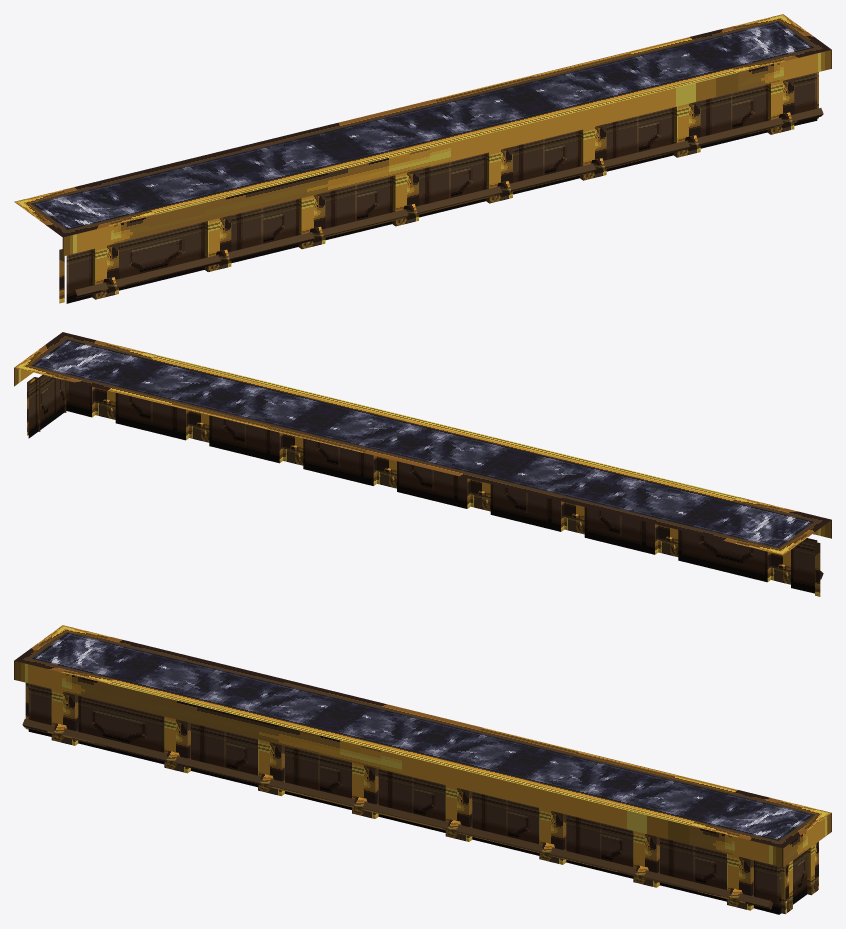
The picture shows the model from 3 angles, top to bottom: view 1: azimuth 30°, elevation 25°; view 2: azimuth 150°, elevation 25°; view 3: azimuth 330°, elevation 25°; orthographic projection.
Visible parts, largest first — view 1: sh_l03_c06; view 2: sh_l03_c06; view 3: sh_l03_c06.
Part boxes in pixels (left/top/right/bottom): sh_l03_c06: left=14, top=14, right=831, bottom=303; sh_l03_c06: left=14, top=332, right=831, bottom=596; sh_l03_c06: left=14, top=625, right=831, bottom=914.
Size of the model in its own units: 4.1 by 0.3701 by 0.5098.
Materials: 3 (3 with a texture image).
